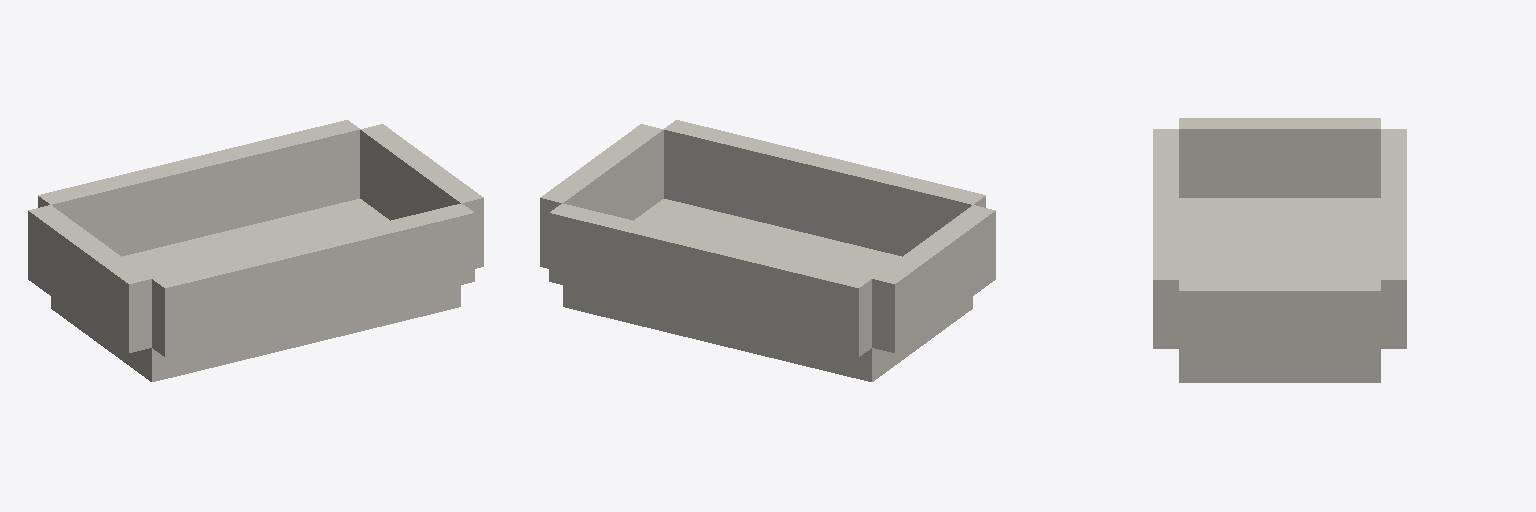
The model's file is boat.obj.
3 views of the same model, side by side, from view 1: azimuth 30°, elevation 25°; view 2: azimuth 150°, elevation 25°; view 3: azimuth 270°, elevation 25° (orthographic).
Parts seen in each view (by area): view 1: Mesh1 Boat1 Model; view 2: Mesh1 Boat1 Model; view 3: Mesh1 Boat1 Model.
Boxes of the visible parts, x1=… form: Mesh1 Boat1 Model: x1=28, y1=120, x2=483, y2=381; Mesh1 Boat1 Model: x1=540, y1=120, x2=995, y2=381; Mesh1 Boat1 Model: x1=1153, y1=118, x2=1406, y2=382.
Bounding box in the file's own units: 1.4 × 0.3908 × 0.87.